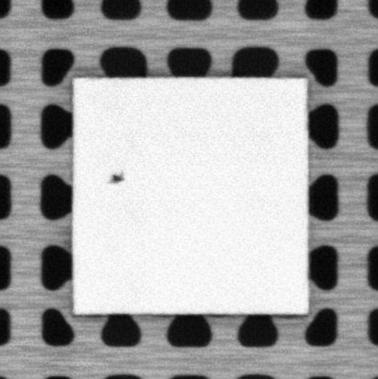DIE_INK: (111, 171, 123, 184)
